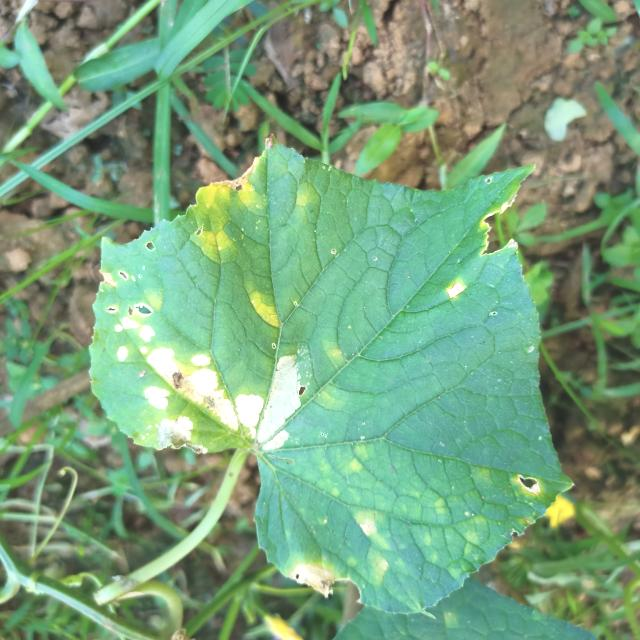disease_cucumber: (110, 309, 302, 457), (190, 173, 270, 264), (351, 503, 400, 582), (243, 286, 285, 330)
